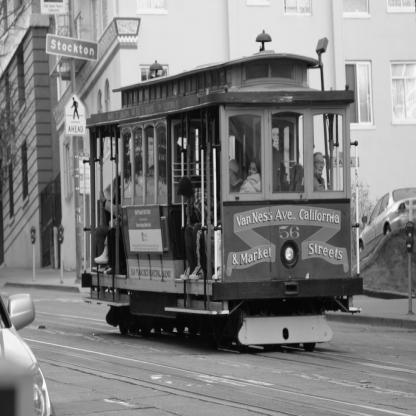Car: (0, 294, 56, 416), (356, 188, 416, 257)
